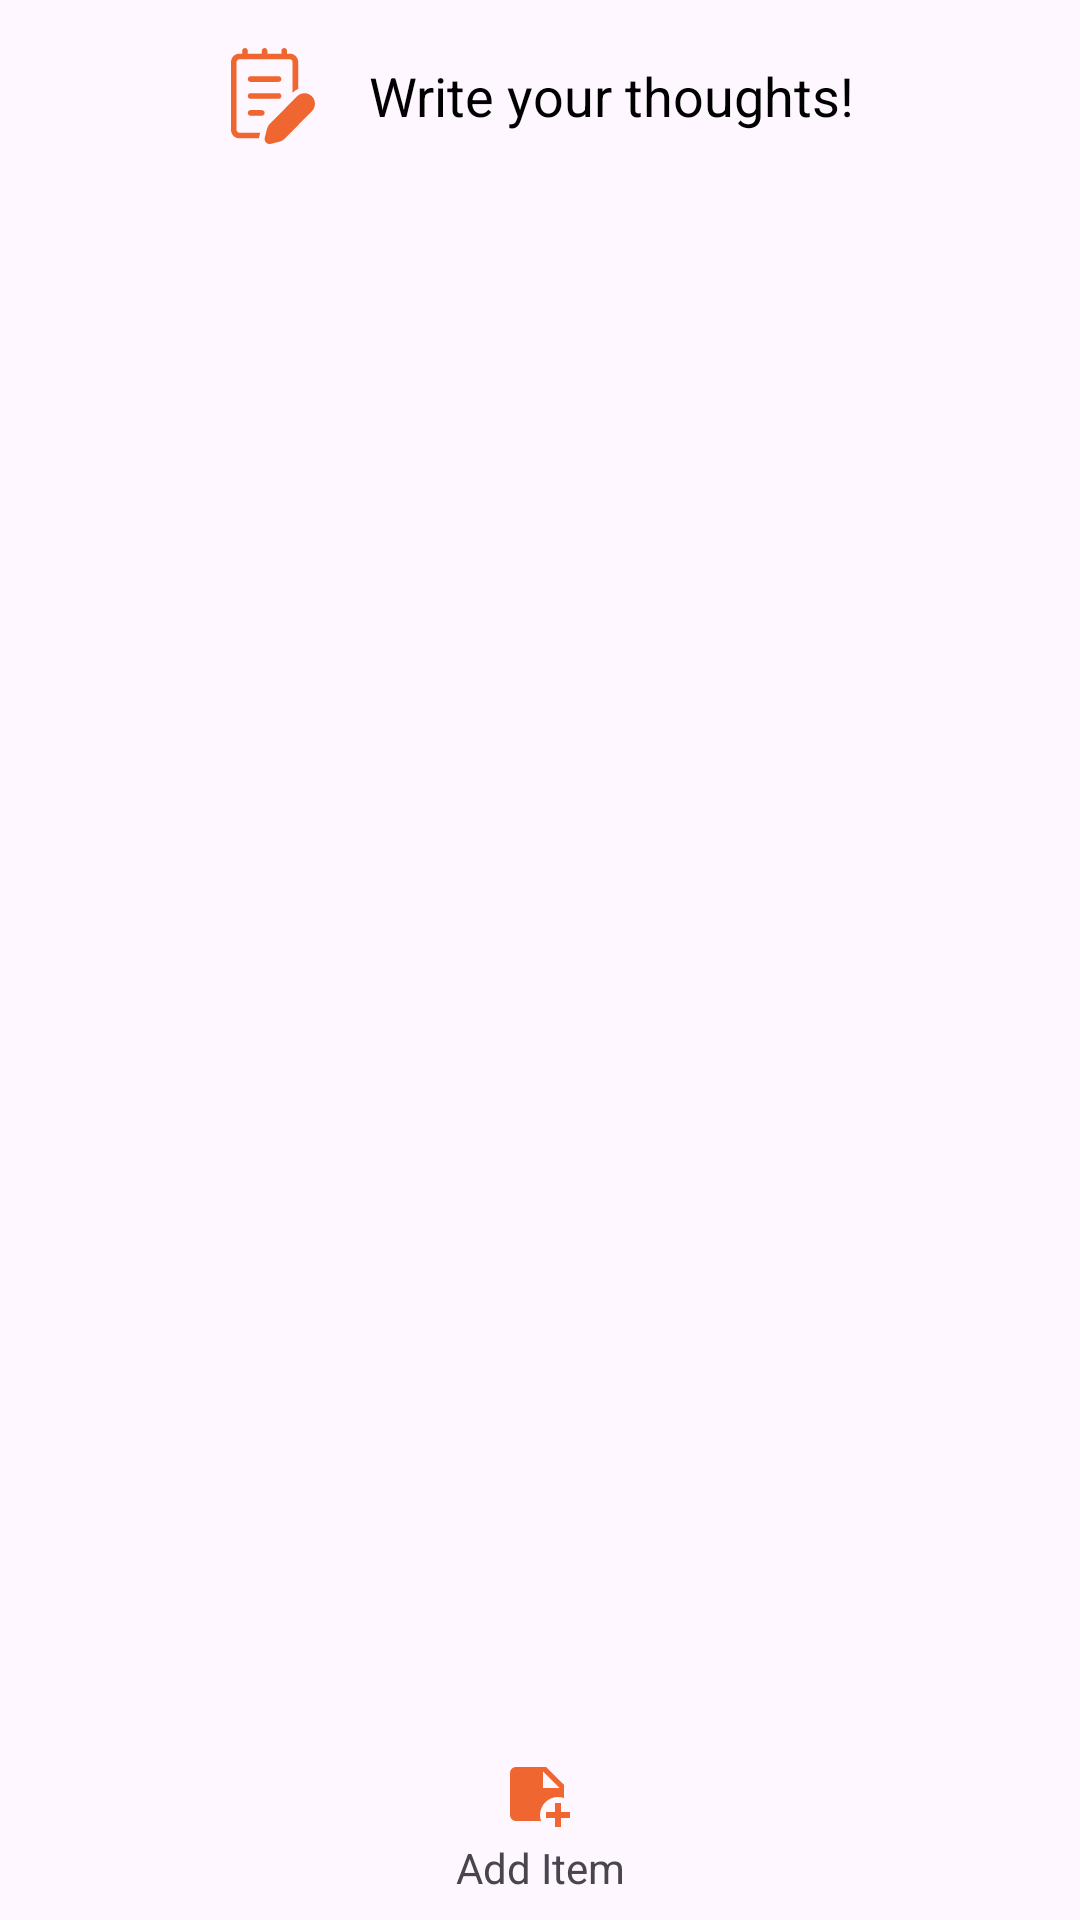

Icons on this 1080×1920 Android screen, each with its box as (x1, y1, x2, y2):
note: (231, 48, 315, 144)
